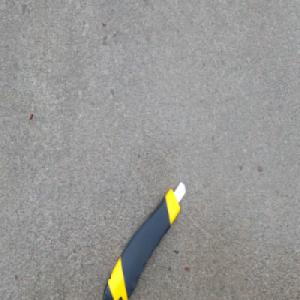Cutter: (100, 179, 187, 300)
